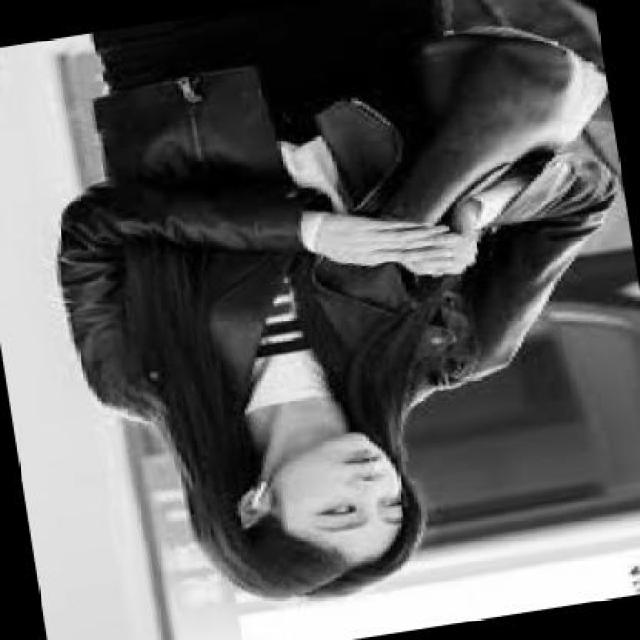earphone: (242, 465, 284, 537)
